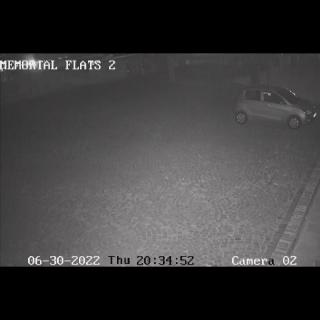car: (232, 87, 315, 130)
